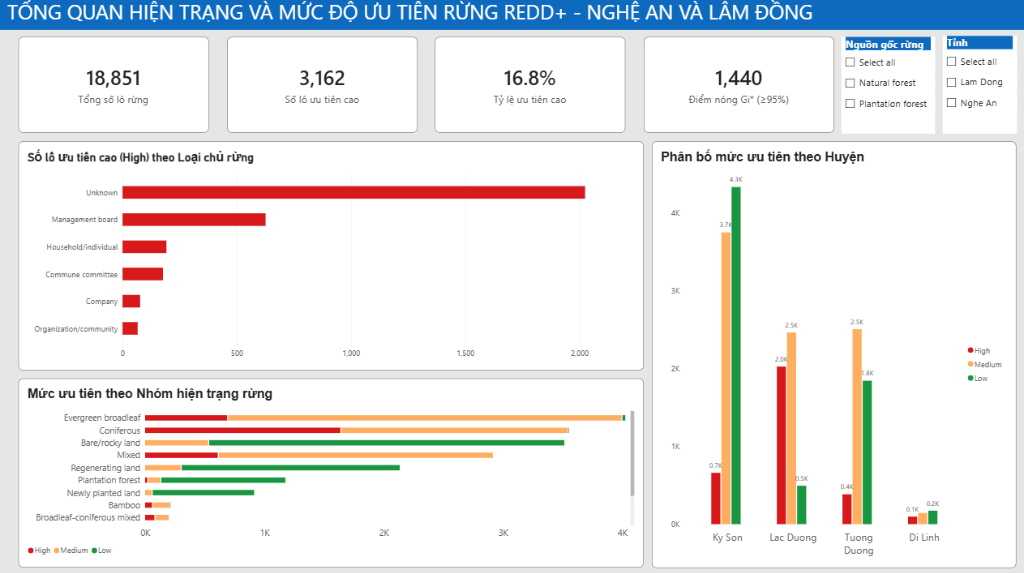

What the dashboard file says about the page in this screenshot:
{"tool":"powerbi","page":{"name":"Tổng quan","canvas":[1920,1080],"ordinal":0},"visuals":[{"type":"shape","box":[0,0,1920,58.3],"z":0},{"type":"textbox","box":[15,0,1538.3,71.7],"z":1000},{"type":"card","fields":{"Values":["redd fact_forest_points.Hotspot_95_Points"]},"box":[1200,72,354,178],"z":2000},{"type":"card","fields":{"Values":["redd fact_forest_points.High_Points"]},"box":[424,72,354,178],"z":3000},{"type":"card","fields":{"Values":["redd fact_forest_points.Total_Points"]},"box":[36,72.5,354,178],"z":4000},{"type":"clusteredColumnChart","title":"Phân bố mức ưu tiên theo Huyện","fields":{"Category":["redd fact_forest_points.district"],"Series":["redd fact_forest_points.priority"],"Y":["redd fact_forest_points.Total_Points"]},"box":[1216,266,678,794],"z":5000},{"type":"barChart","title":"Số lô ưu tiên cao (High) theo Loại chủ rừng","fields":{"Category":["redd fact_forest_points.owner_type"],"Y":["redd fact_forest_points.High_Points"]},"box":[36,266,1164,426],"z":6000},{"type":"barChart","title":"Mức ưu tiên theo Nhóm hiện trạng rừng","fields":{"Category":["redd fact_forest_points.land_cover_group"],"Series":["redd fact_forest_points.priority"],"Y":["redd fact_forest_points.Total_Points"]},"box":[36,708,1164,352],"z":7000},{"type":"card","fields":{"Values":["redd fact_forest_points.High_Share"]},"box":[812,72,354,178],"z":8000},{"type":"slicer","title":"Tỉnh","fields":{"Values":["redd fact_forest_points.province"]},"box":[1756,70,138,182],"z":10000},{"type":"slicer","title":"Tỉnh","fields":{"Values":["redd fact_forest_points.forest_origin"]},"box":[1568,72,174,180],"z":11000}]}

Visuals, with their boxes in screenshot pixels (x1, y1, x2, y2), scaled from the page's 1920x1080 canvas onto the 1024x573 screenshot:
shape: left=0, top=0, right=1023, bottom=31
textbox: left=8, top=0, right=828, bottom=38
card - redd fact_forest_points.Hotspot_95_Points: left=640, top=38, right=829, bottom=133
card - redd fact_forest_points.High_Points: left=226, top=38, right=415, bottom=133
card - redd fact_forest_points.Total_Points: left=19, top=38, right=208, bottom=133
"Phân bố mức ưu tiên theo Huyện" clusteredColumnChart: left=649, top=141, right=1010, bottom=562
"Số lô ưu tiên cao (High) theo Loại chủ rừng" barChart: left=19, top=141, right=640, bottom=367
"Mức ưu tiên theo Nhóm hiện trạng rừng" barChart: left=19, top=376, right=640, bottom=562
card - redd fact_forest_points.High_Share: left=433, top=38, right=622, bottom=133
"Tỉnh" slicer: left=937, top=37, right=1010, bottom=134
"Tỉnh" slicer: left=836, top=38, right=929, bottom=134
